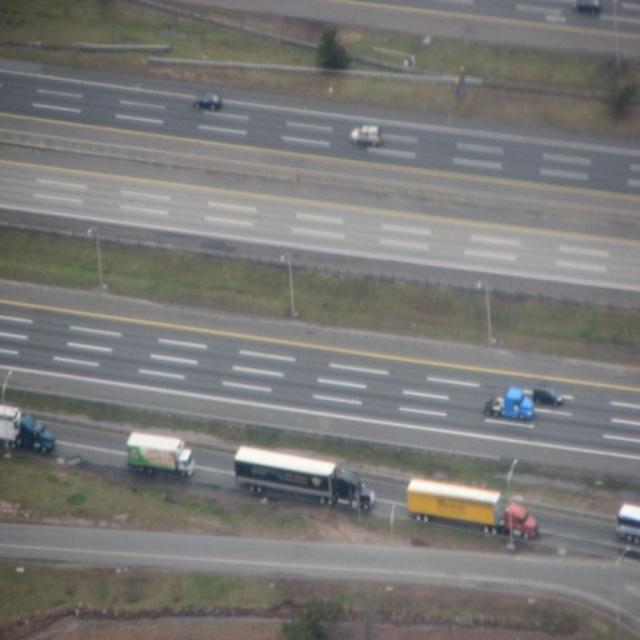car: (350, 120, 380, 144), (192, 92, 222, 107)
